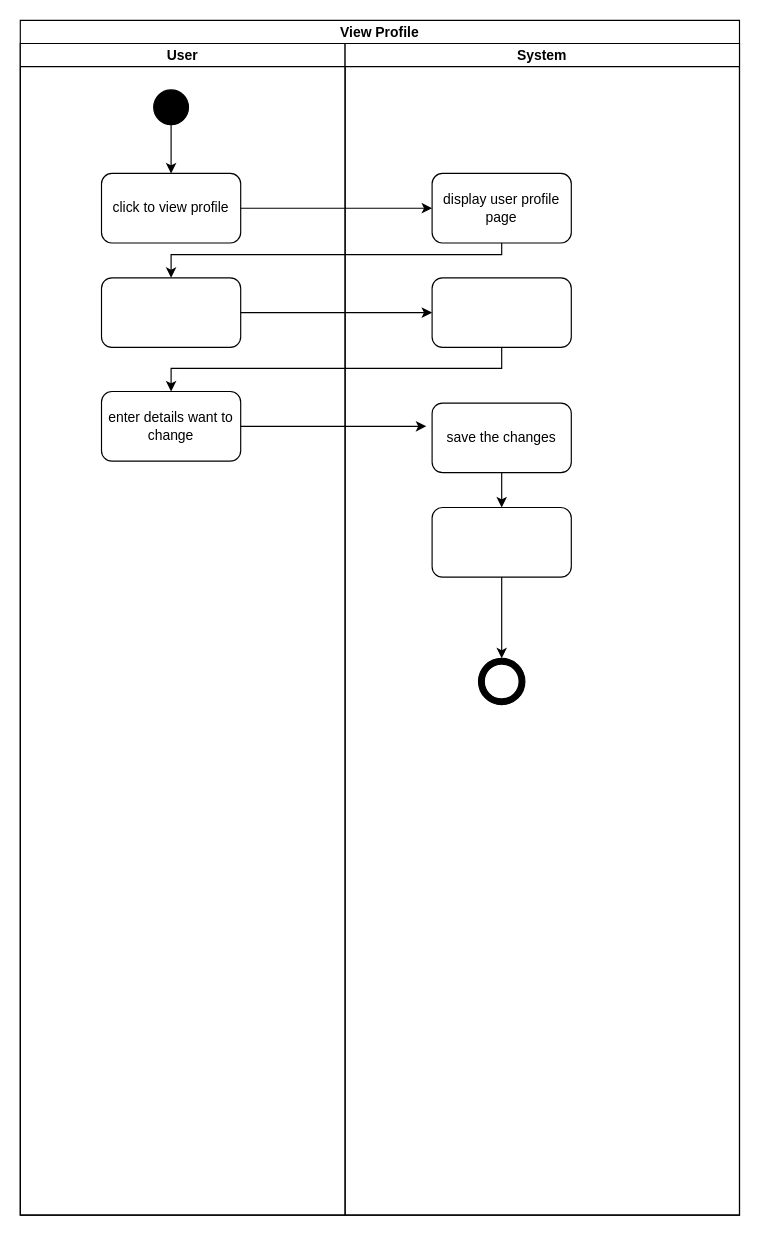
This 760x1235 diagram has some shape labels left out. Each missing label, with the centre of its shape:
"click to change user details" belongs at pixel 170 312.
"display the user page with changes" belongs at pixel 501 541.
"prompt for change details" belongs at pixel 501 312.
